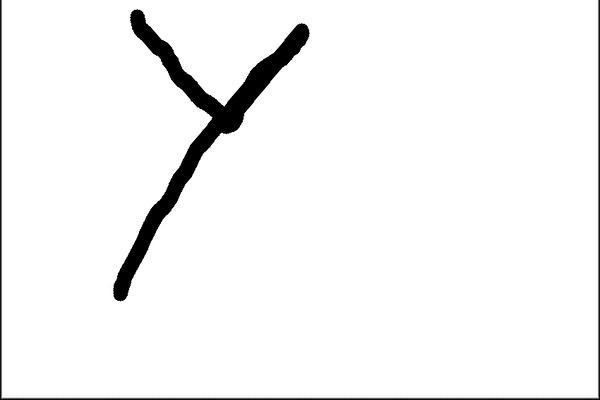Y: (101, 4, 328, 312)
